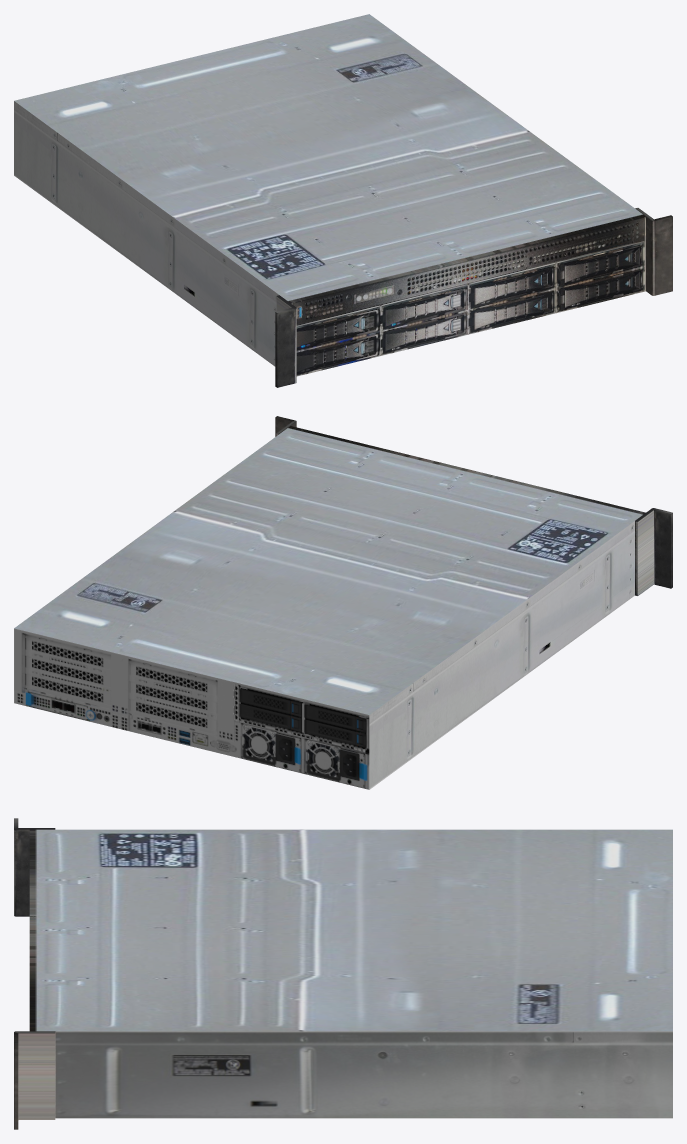
Rendered from shengji.gltf.
The picture shows the model from 3 angles, top to bottom: view 1: azimuth 30°, elevation 25°; view 2: azimuth 150°, elevation 25°; view 3: azimuth 270°, elevation 25°; orthographic projection. The views are drawn at different scales.
Parts seen in each view (by area): view 1: 数据库审计005; view 2: 数据库审计005; view 3: 数据库审计005.
Boxes of the visible parts, x1,y1,x2,y2 form: 数据库审计005: [14, 14, 672, 387]; 数据库审计005: [14, 416, 672, 789]; 数据库审计005: [14, 818, 672, 1129].
Bounding box in the file's own units: 0.5539 × 0.1 × 0.6869.
Materials: 1 (1 with a texture image).
